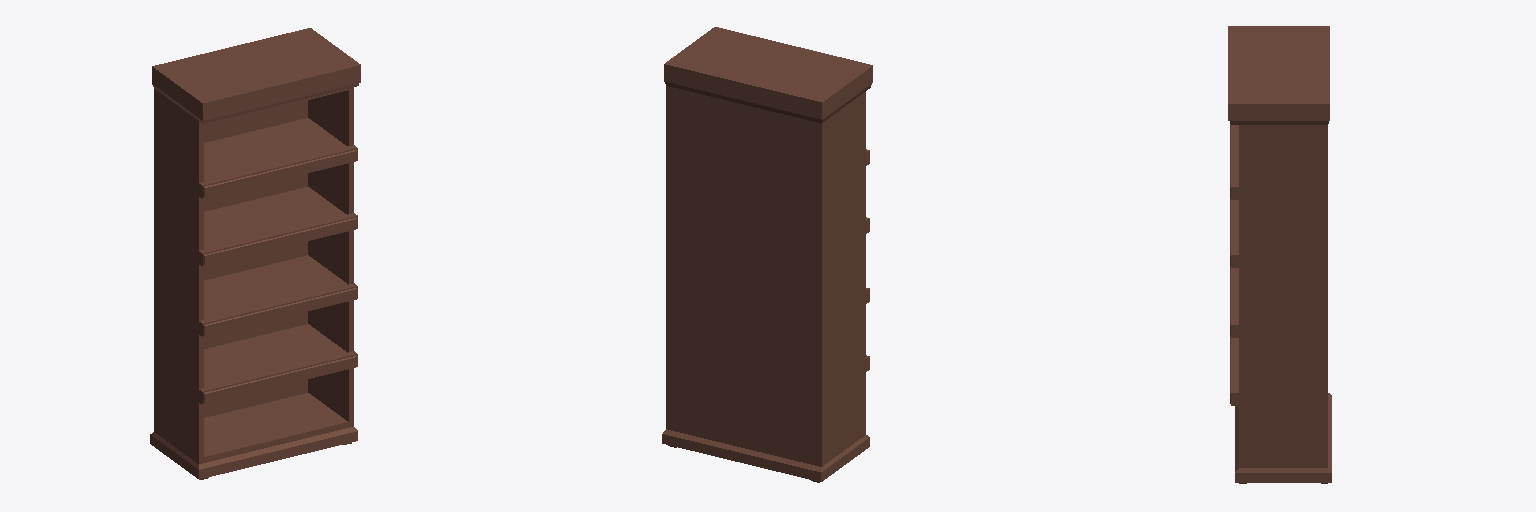
The model's file is Bookcase_01.obj.
The picture shows the model from 3 angles: view 1: azimuth 30°, elevation 25°; view 2: azimuth 150°, elevation 25°; view 3: azimuth 270°, elevation 25°; orthographic projection.
Visible parts, largest first — view 1: Bookcase_01_Cube.027; view 2: Bookcase_01_Cube.027; view 3: Bookcase_01_Cube.027.
Part boxes in pixels (x1,y1,x2,y2): Bookcase_01_Cube.027: (150, 28, 360, 479); Bookcase_01_Cube.027: (662, 27, 872, 482); Bookcase_01_Cube.027: (1228, 26, 1331, 483).
Size of the model in its own units: 20.63 by 47.3 by 11.77.